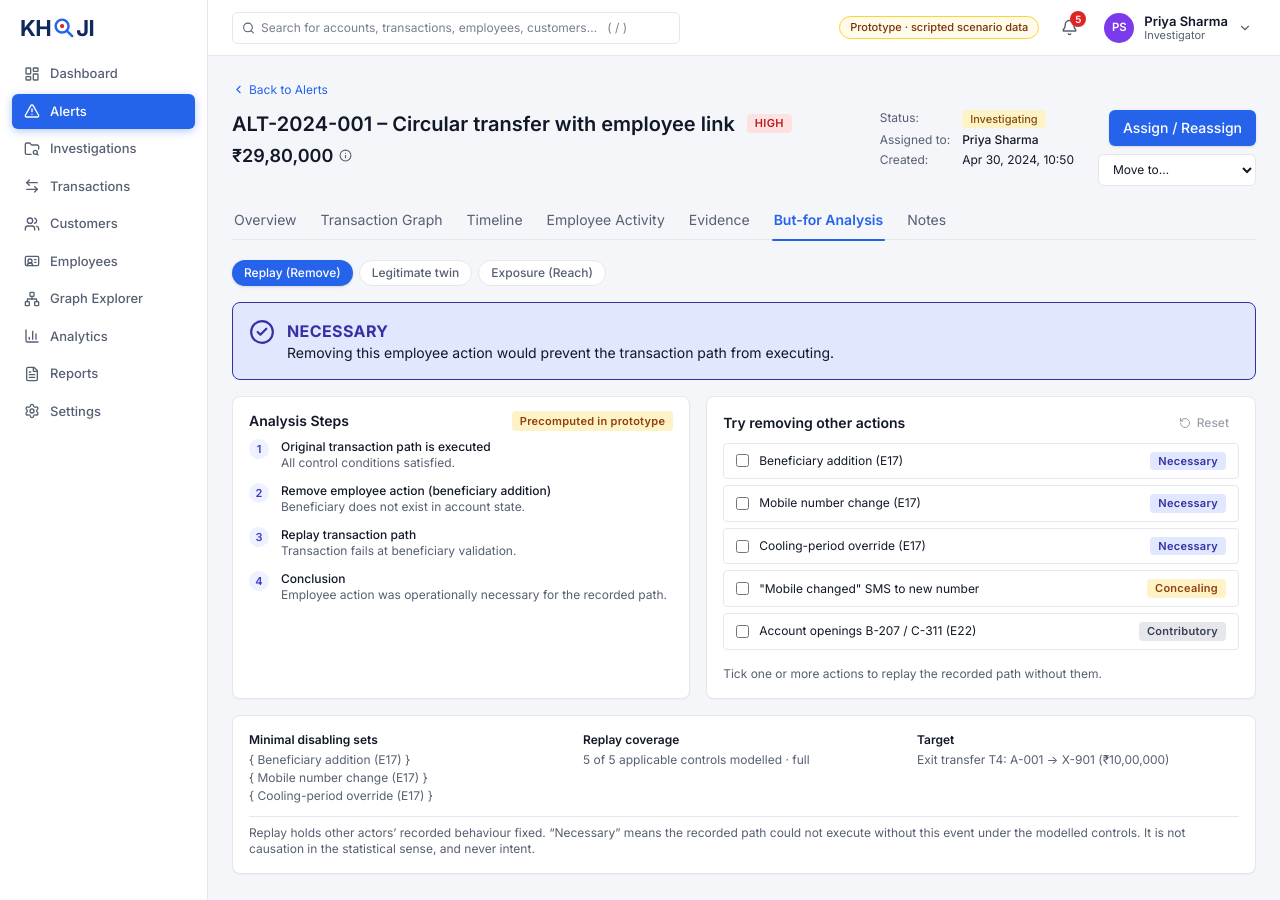
Test: But-for Replay UI › removing the concealing SMS still PASSES (role Concealing)
Step 1. Click the checkbox labelled "\"Mobile changed\" SMS to new number Concealing" → (743, 589), box [736,582,749,595]
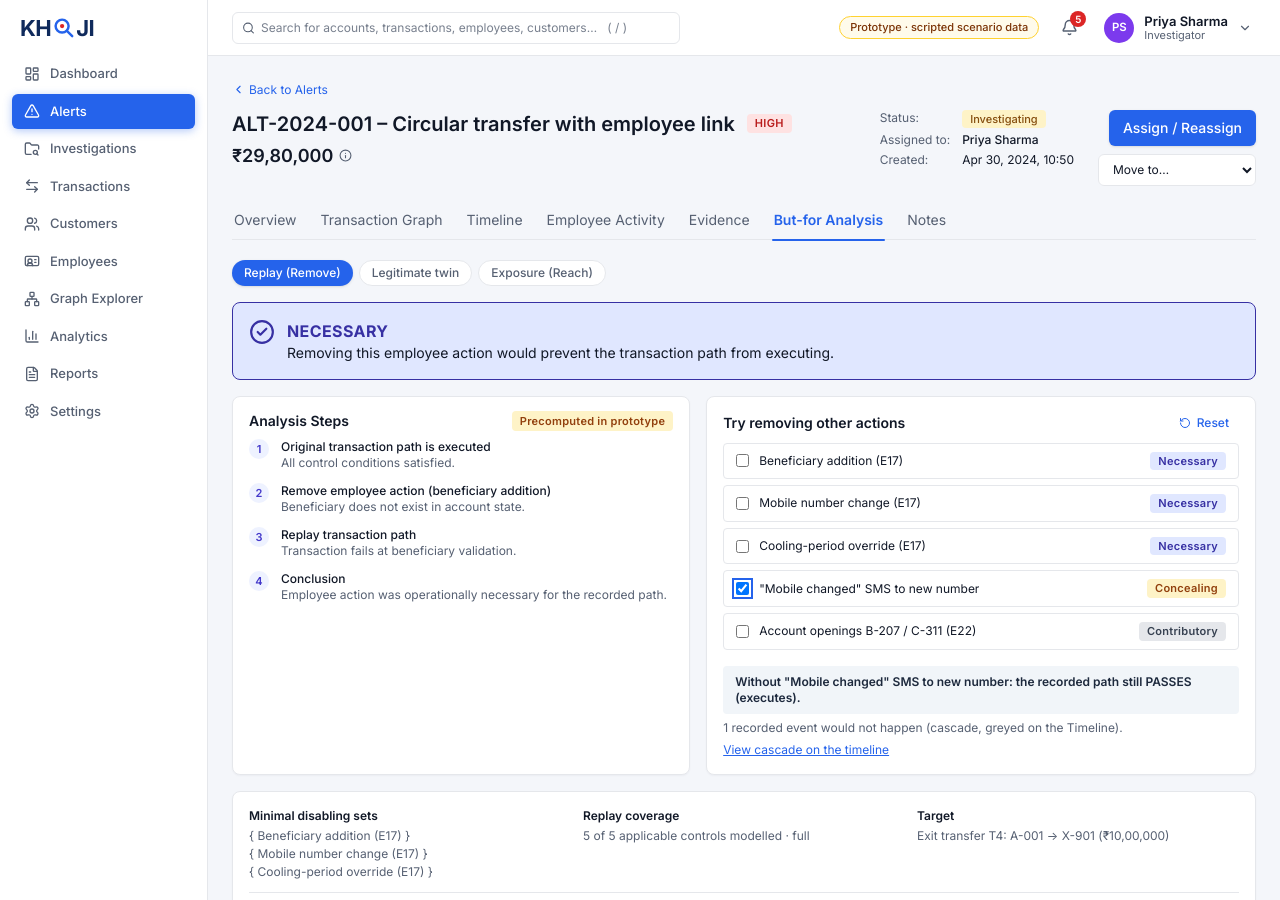
Expected: the text "Concealing" is shown, [1147,580,1226,598]
Now the element with test id "replay-outcome" shows "still PASSES", box [735,674,1192,705]
